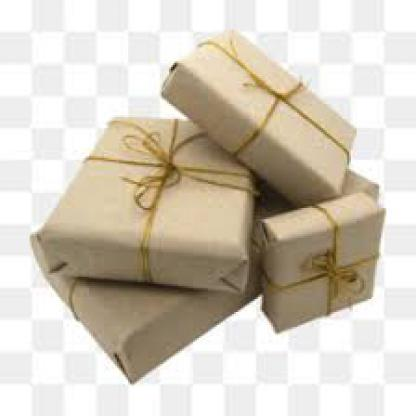paquete: (26, 89, 256, 301), (15, 217, 271, 405), (154, 17, 366, 206), (254, 190, 384, 344)
